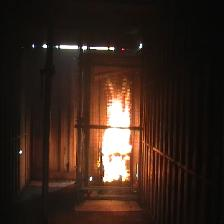fire: (101, 77, 133, 181)
